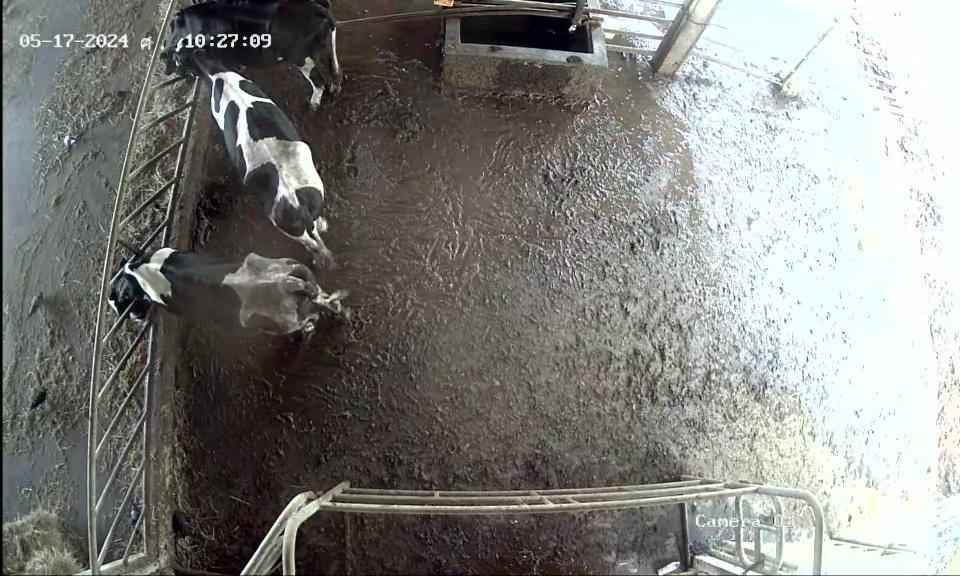eat: (72, 243, 199, 340), (128, 7, 223, 74)
stand: (167, 37, 349, 255)
